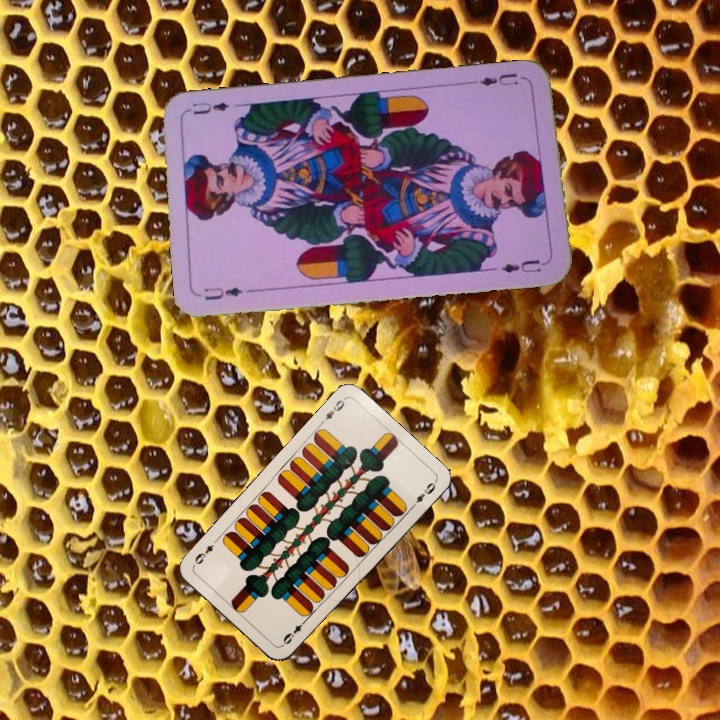E9: (278, 615, 310, 648), (317, 395, 348, 427)
EU: (200, 283, 246, 303), (476, 69, 521, 89)
